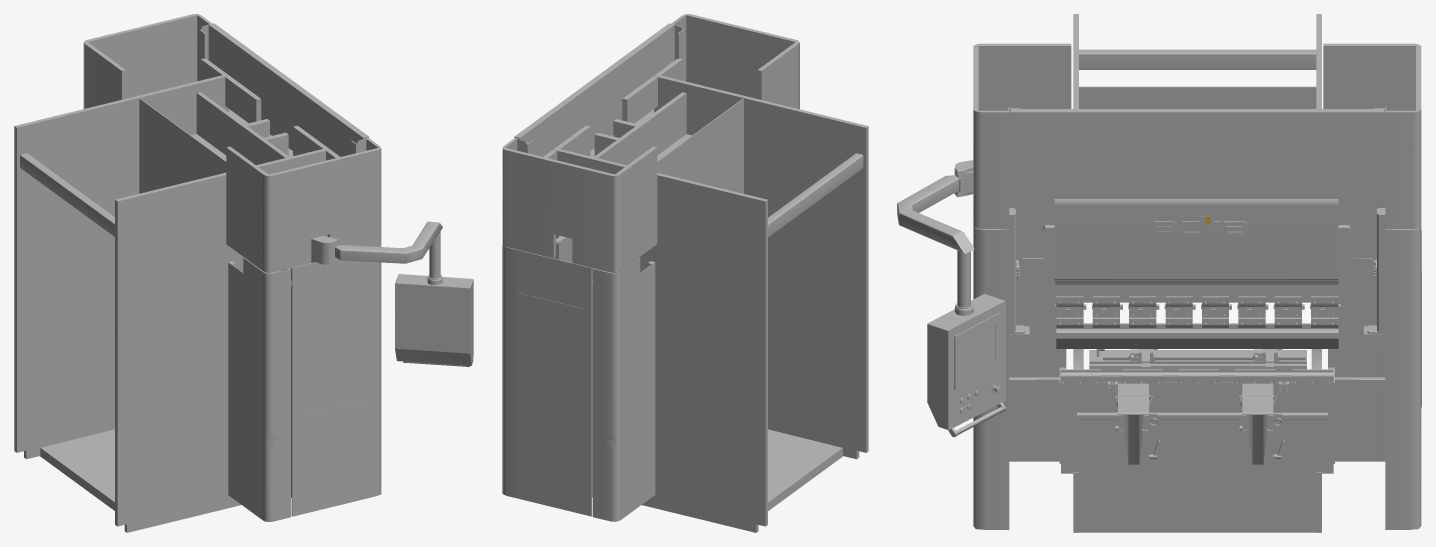
The picture shows the model from 3 angles, left to right: view 1: azimuth 30°, elevation 25°; view 2: azimuth 150°, elevation 25°; view 3: azimuth 270°, elevation 25°; orthographic projection. The views are drawn at different scales.
Visible parts, largest first — view 1: BB_InsideWall, BB_Shield, BB_TopSupport, PA_PC, BB_Top, BB_Glass1, BB_Ground, PA_PC_Support; view 2: BB_InsideWall, BB_Shield, BB_TopSupport, BB_Glass, BB_Top, BB_Ground; view 3: BB_Shield, BB_Top, BB_TopMovable, BB_Front, BB_TopSupport, PA_PC, BB_Ground, BB_QuadStruct, BB_MiddleBar2, BB_TopMovable1, PA_PC_Support, BB_Slider1 (+10 smaller).
Boxes of the visible parts, x1,y1,x2,y2 form: BB_InsideWall: (14,74,329,532); BB_Shield: (83,14,381,521); BB_TopSupport: (20,92,301,236); PA_PC: (395,274,473,367); BB_Top: (208,23,368,156); BB_Glass1: (301,298,364,414); BB_Ground: (40,429,114,510); PA_PC_Support: (311,221,442,285); BB_InsideWall: (553,74,868,532); BB_Shield: (502,14,799,521); BB_TopSupport: (594,92,863,237); BB_Glass: (516,292,585,421); BB_Top: (514,23,674,156); BB_Ground: (768,429,842,510); BB_Shield: (973,43,1421,529); BB_Top: (1010,109,1384,198); BB_TopMovable: (1054,199,1338,284); BB_Front: (1061,382,1333,498); BB_TopSupport: (1079,49,1316,108); PA_PC: (927,294,1005,437); BB_Ground: (1079,498,1316,532); BB_QuadStruct: (1055,296,1340,327); BB_MiddleBar2: (1056,323,1338,348); BB_TopMovable1: (1043,225,1350,302); PA_PC_Support: (897,160,974,315); BB_Slider1: (1089,349,1306,372).
Bounding box in the file's own units: 233 × 266 × 288.
